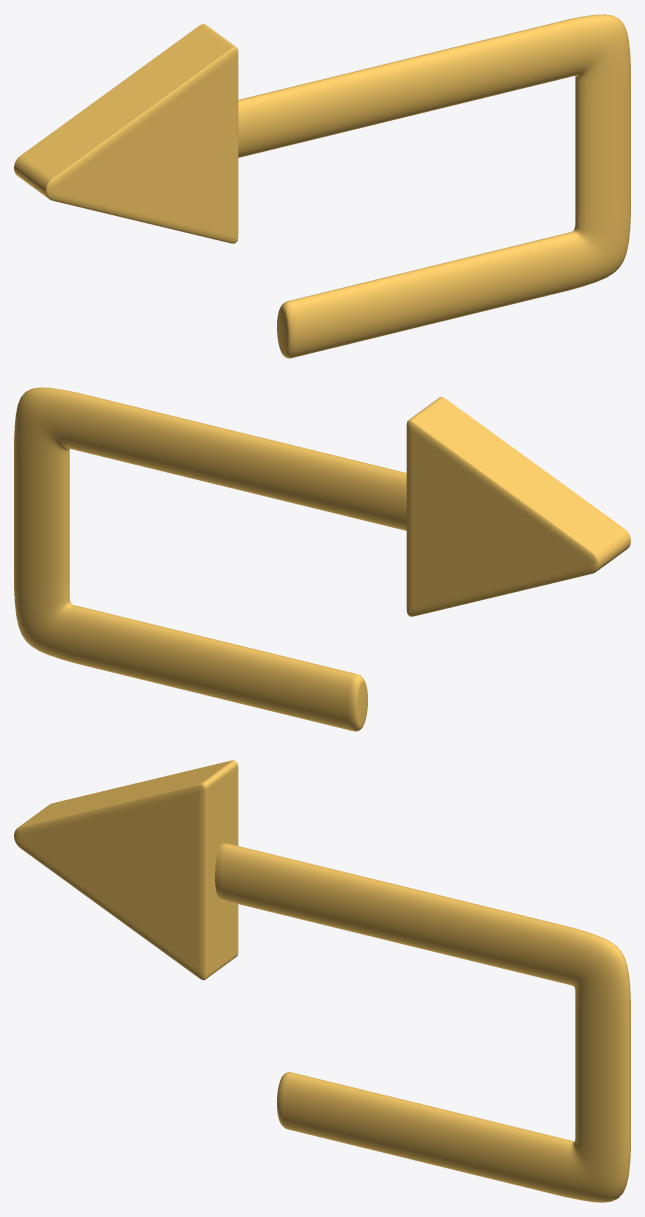
File: arrow2.glb
3 renders of one model, top to bottom at view 1: azimuth 30°, elevation 25°; view 2: azimuth 150°, elevation 25°; view 3: azimuth 330°, elevation 25°, orthographic.
Visible parts, largest first — view 1: BezierCurve; view 2: BezierCurve; view 3: BezierCurve.
Part boxes in pixels (box(x1,y1,x2,y2)): BezierCurve: box(14, 14, 630, 358); BezierCurve: box(14, 387, 630, 731); BezierCurve: box(14, 760, 630, 1202).
Bounding box in the file's own units: 6.23 × 3.37 × 0.6178.
